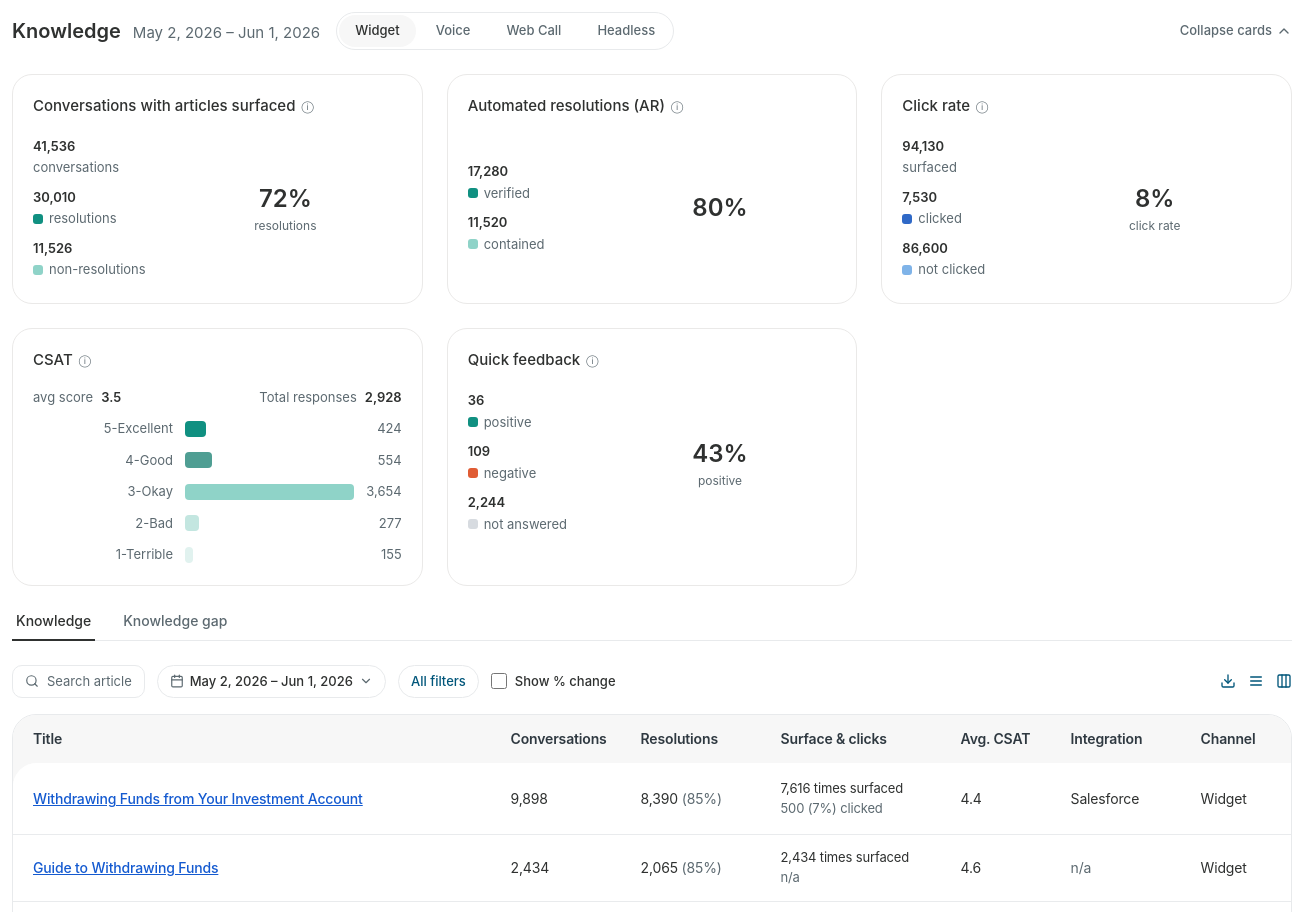
KnowledgeView › reveals the carried changes when Show % change is checked
This screenshot has width=1304, height=912.
Expected: the text "+12.4%" is not shown
Click the checkbox labelled "Show % change" at (499,681), box [491,673,507,689]
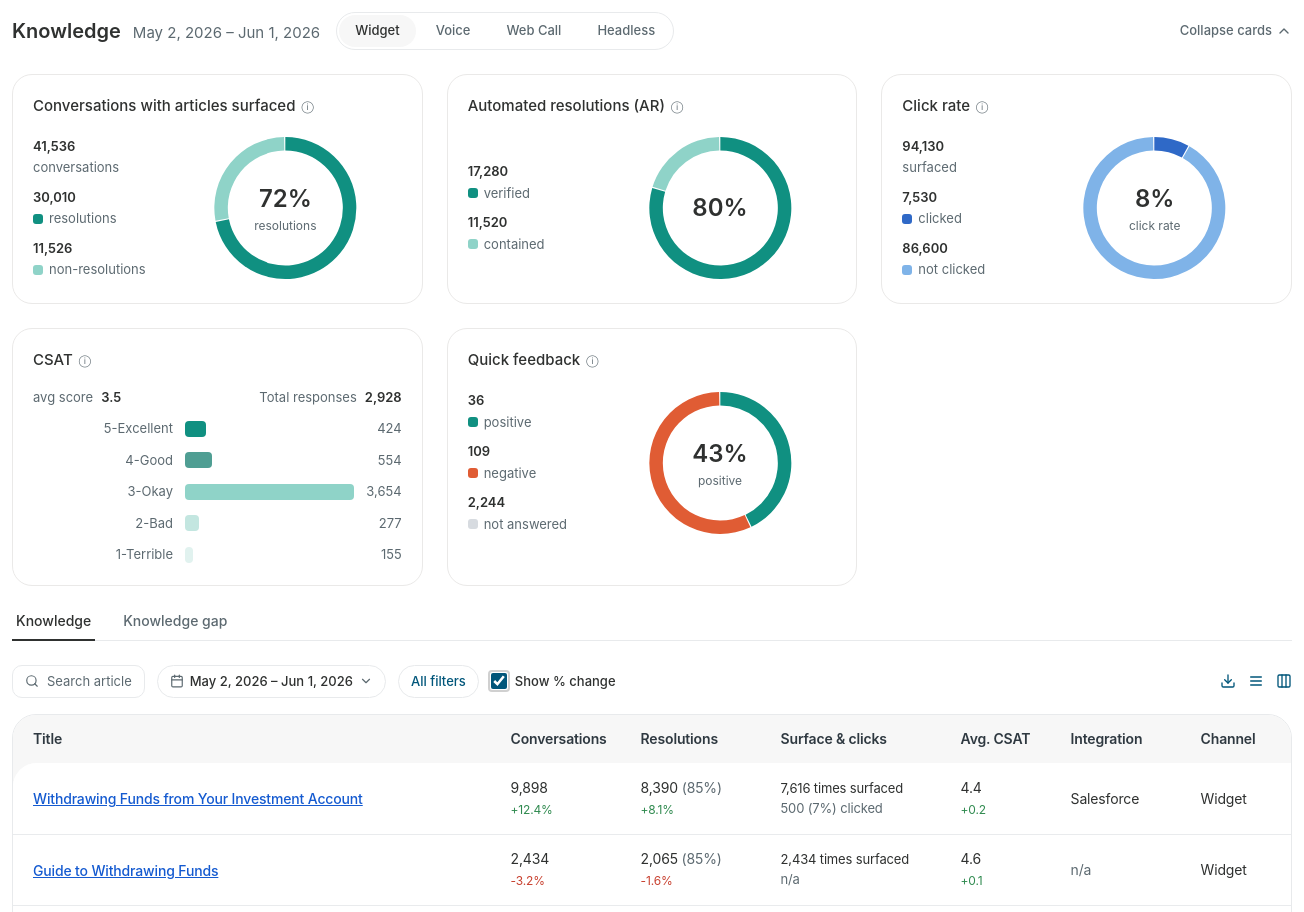
Now the text "+12.4%" is shown, box [510,802,553,816]
